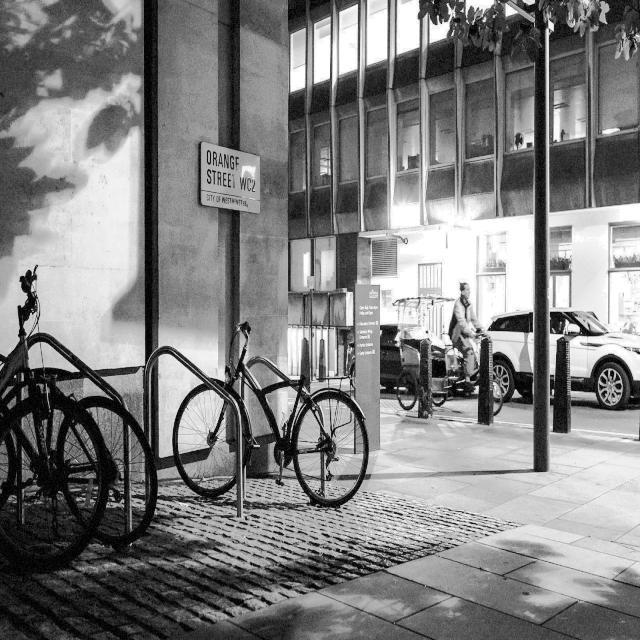Bicycle: (178, 315, 378, 525), (0, 303, 150, 545), (382, 338, 525, 435)
Car: (481, 276, 640, 425)
